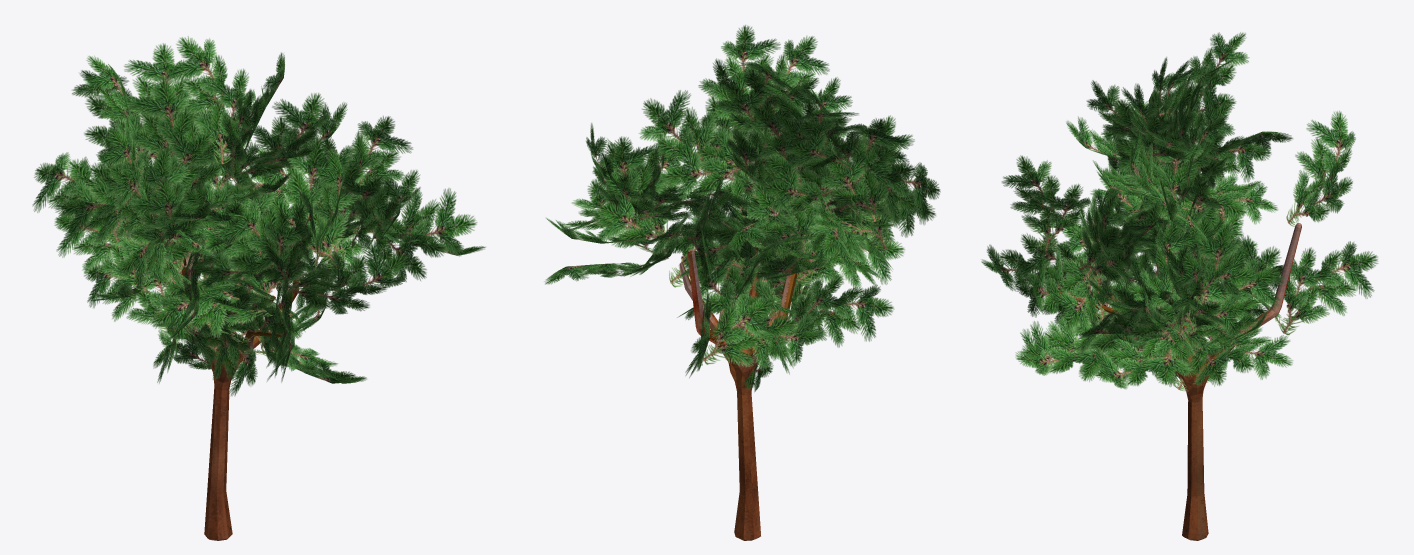
The model's file is Autumn tree 02.glb.
The picture shows the model from 3 angles, left to right: view 1: azimuth 30°, elevation 25°; view 2: azimuth 150°, elevation 25°; view 3: azimuth 270°, elevation 25°; orthographic projection. The views are drawn at different scales.
Visible parts, largest first — view 1: Autumn leaf 02, Autumn tree 02; view 2: Autumn leaf 02, Autumn tree 02; view 3: Autumn leaf 02, Autumn tree 02.
Boxes of the visible parts, left/top/right/bottom form: Autumn leaf 02: left=32, top=36, right=485, bottom=396; Autumn tree 02: left=176, top=241, right=299, bottom=540; Autumn leaf 02: left=544, top=24, right=940, bottom=392; Autumn tree 02: left=679, top=249, right=809, bottom=540; Autumn leaf 02: left=981, top=32, right=1378, bottom=391; Autumn tree 02: left=1059, top=223, right=1301, bottom=540.
Size of what is drawn, in the model's own units: 6.86 by 7.54 by 6.06.
Materials: 2 (2 with a texture image).
